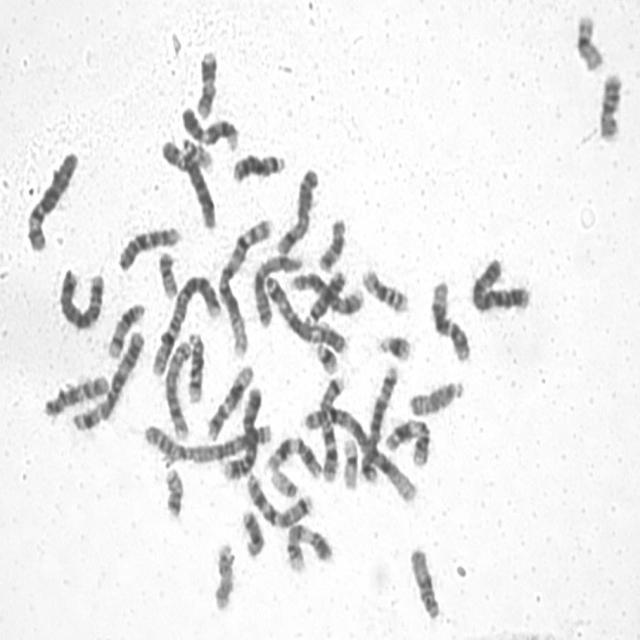A1: (299, 400, 420, 505), (213, 211, 274, 360)
A2: (147, 267, 222, 379), (140, 410, 274, 466)
A3: (67, 324, 146, 432), (262, 268, 350, 354)
B4: (218, 379, 264, 483), (466, 251, 533, 314)
B5: (356, 358, 400, 484), (54, 260, 106, 332)
C10: (38, 367, 111, 420), (113, 219, 183, 273)
C11: (260, 428, 324, 481), (381, 410, 433, 469)
C12: (202, 358, 256, 442), (426, 272, 473, 364)
C6: (21, 143, 80, 253), (157, 130, 218, 231)
C7: (241, 466, 315, 530), (314, 368, 348, 482)
C8: (286, 266, 365, 316), (160, 333, 194, 441)
C9: (177, 100, 240, 151), (280, 517, 334, 574)
D13: (302, 263, 348, 328), (228, 145, 287, 185)
D14: (103, 296, 147, 360), (182, 324, 206, 404)
D15: (405, 540, 442, 622), (404, 372, 466, 418)
E16: (358, 260, 412, 316), (597, 72, 623, 144)
E17: (209, 535, 236, 614), (192, 43, 220, 119)
E18: (314, 210, 348, 273), (237, 502, 267, 560)
F19: (571, 6, 607, 73), (338, 429, 360, 491)
F20: (160, 460, 186, 520), (153, 244, 180, 300)
G21: (372, 325, 413, 363), (311, 336, 340, 374)
G22: (177, 130, 215, 174), (265, 461, 301, 500)
X: (248, 245, 305, 328), (272, 160, 321, 256)
